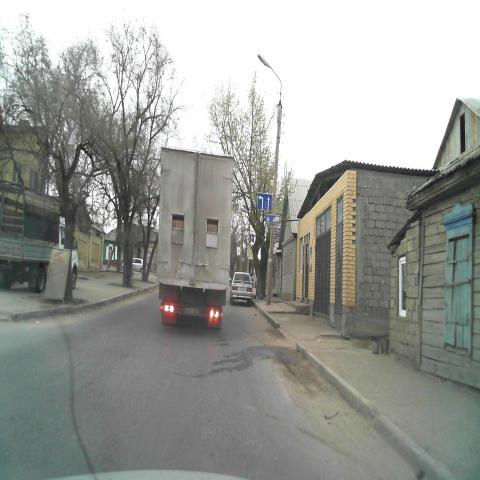6_15_1: (265, 214, 281, 224)
